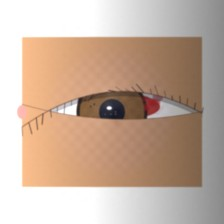hemorrhage_spot: (90, 74, 171, 139)
